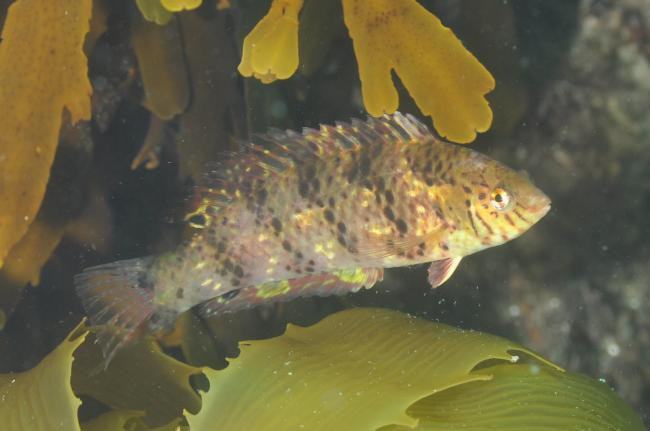fish: (74, 111, 553, 369)
